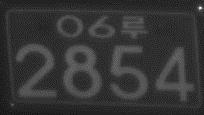0: (55, 12, 84, 39)
2: (15, 41, 57, 100)
4: (155, 45, 195, 103)
5: (108, 43, 149, 101)
6: (87, 14, 116, 39)
8: (62, 42, 103, 99)
루: (120, 15, 149, 39)
